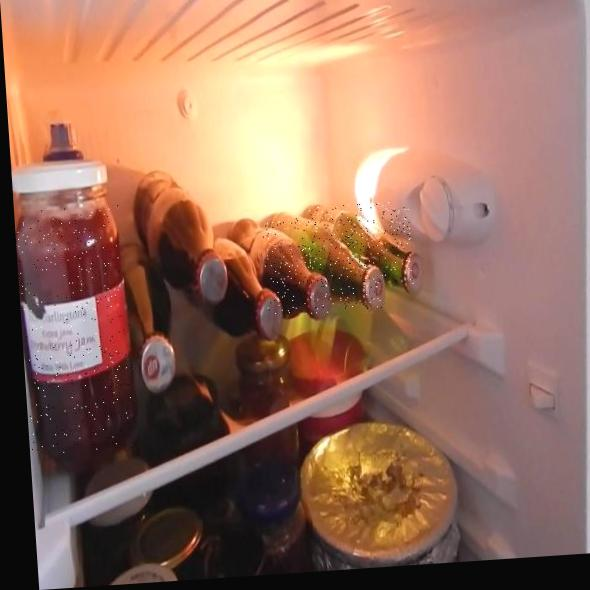mineral water: (262, 213, 383, 316), (309, 201, 414, 290)
tomato paste: (16, 204, 134, 455)
